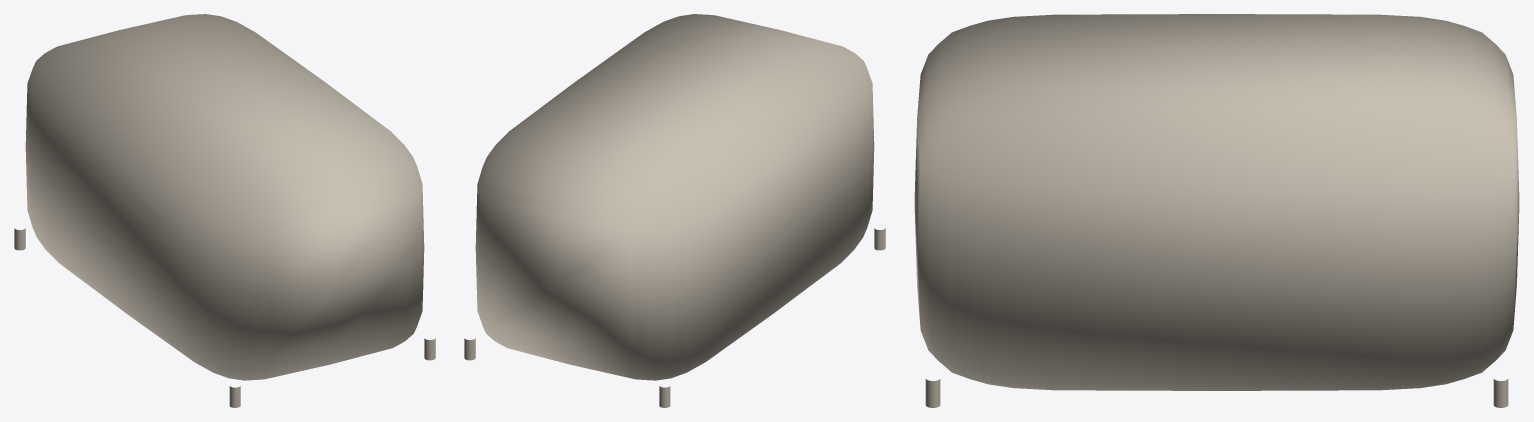
The model's file is ikea-kivik-69440590-g2-proxy.glb.
The picture shows the model from 3 angles, left to right: view 1: azimuth 30°, elevation 25°; view 2: azimuth 150°, elevation 25°; view 3: azimuth 270°, elevation 25°; orthographic projection. The views are drawn at different scales.
Parts seen in each view (by area): view 1: proxy_body; view 2: proxy_body; view 3: proxy_body.
Boxes of the visible parts, x1=… form: proxy_body: x1=25, y1=14, x2=424, y2=380; proxy_body: x1=475, y1=14, x2=874, y2=380; proxy_body: x1=914, y1=14, x2=1519, y2=390.
Size of the model in its own units: 0.9 by 0.83 by 1.63.
